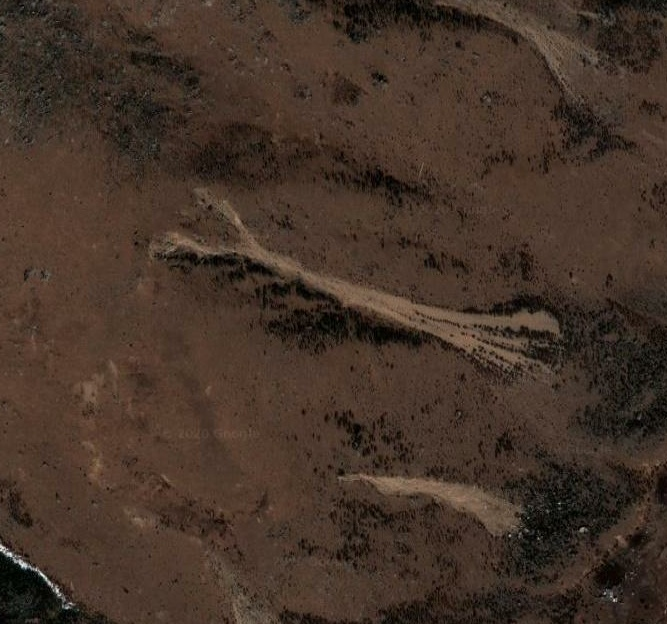slope: (151, 183, 562, 385), (335, 466, 529, 545)
